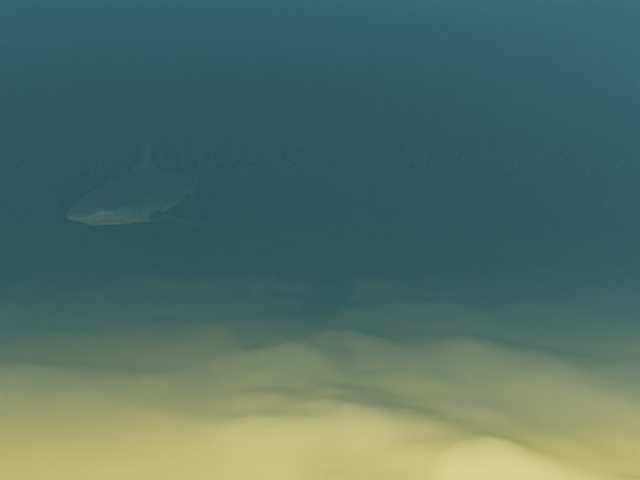Carribean Shark.001: (67, 134, 216, 226)
